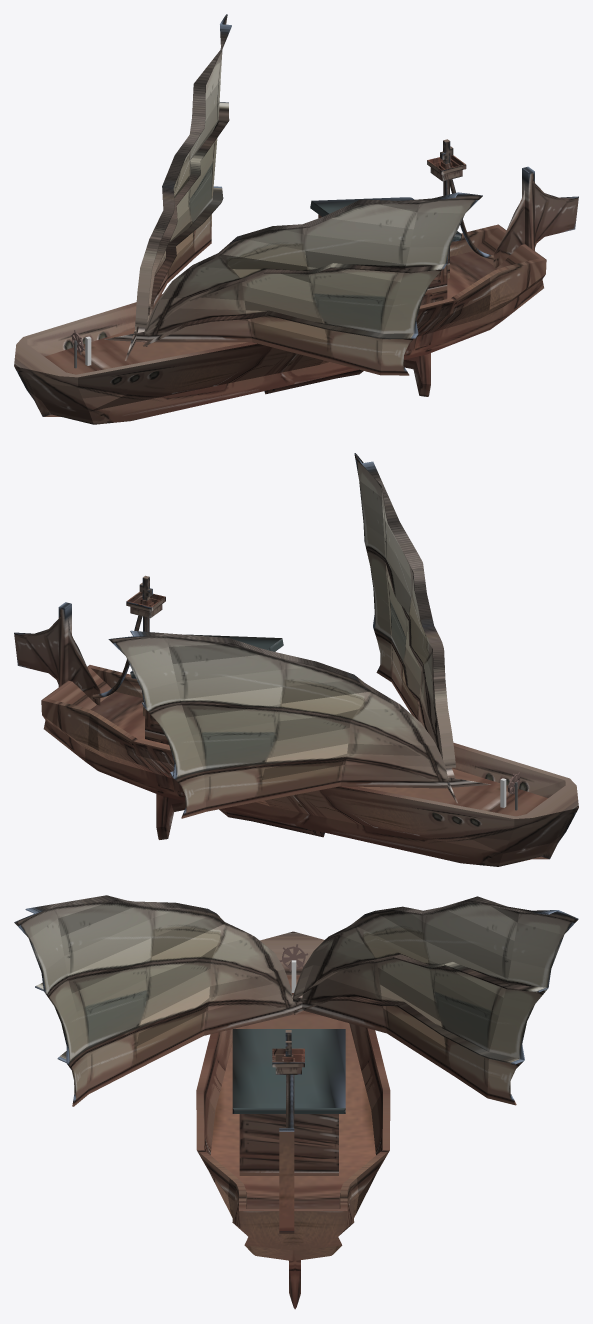
Rendered from BOAT.fbx.
3 renders of one model, top to bottom at view 1: azimuth 30°, elevation 25°; view 2: azimuth 150°, elevation 25°; view 3: azimuth 270°, elevation 25°, orthographic. The views are drawn at different scales.
Parts seen in each view (by area): view 1: Plane, Cube, Plane.001, Plane.002, Cube.003, Cube.006, Cube.005; view 2: Plane.001, Cube, Plane, Plane.002, Cube.006, Cube.003, Cube.005; view 3: Plane, Plane.001, Cube, Cube.003, Plane.002, Cube.005.
Boxes of the visible parts, x1,y1,x2,y2 form: Plane: [104, 192, 482, 375]; Cube: [14, 224, 546, 424]; Plane.001: [125, 14, 231, 360]; Plane.002: [493, 166, 578, 268]; Cube.003: [310, 197, 461, 305]; Cube.006: [264, 353, 430, 396]; Cube.005: [427, 139, 466, 278]; Plane.001: [108, 630, 490, 818]; Cube: [41, 665, 578, 866]; Plane: [354, 453, 457, 803]; Plane.002: [14, 602, 100, 705]; Cube.006: [156, 794, 324, 839]; Cube.003: [130, 634, 283, 744]; Cube.005: [126, 575, 165, 716]; Plane: [14, 895, 302, 1106]; Plane.001: [292, 896, 578, 1105]; Cube: [196, 931, 390, 1261]; Cube.003: [232, 1029, 345, 1175]; Plane.002: [279, 1128, 294, 1233]; Cube.005: [272, 1030, 304, 1128].
Size of the model in its own units: 2981 by 1573 by 2301.
